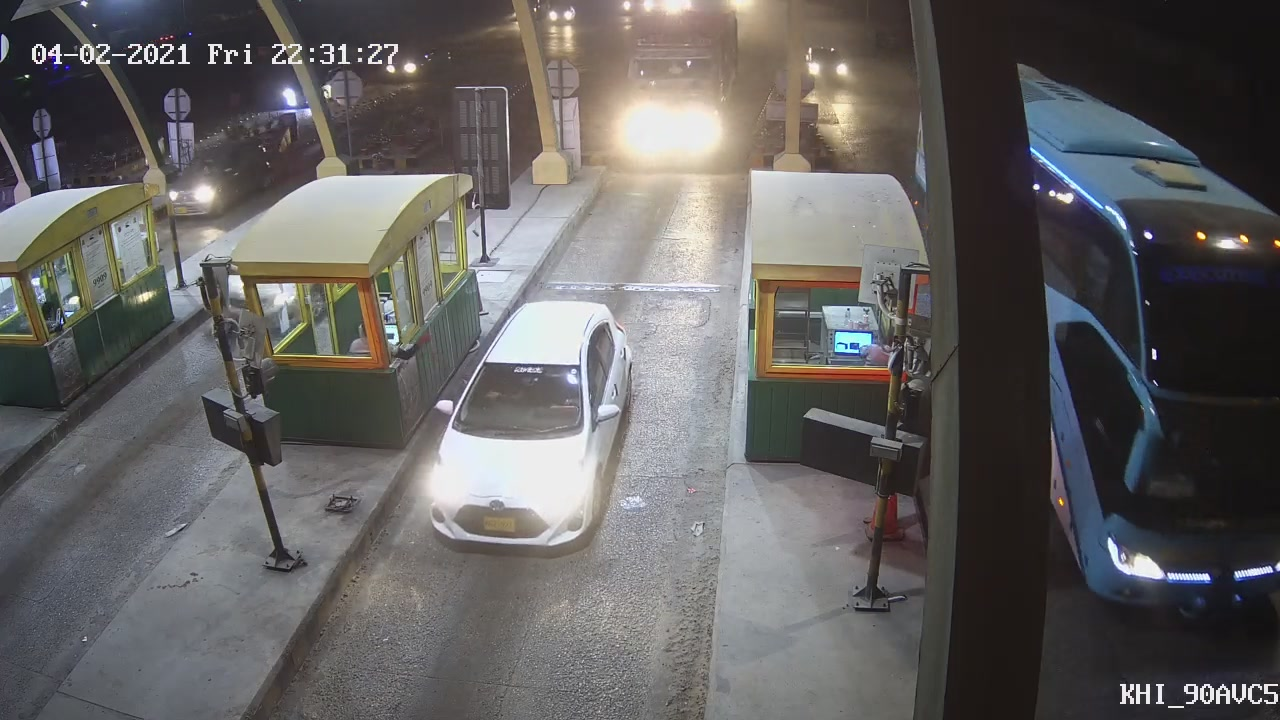F1: (426, 295, 637, 556)
